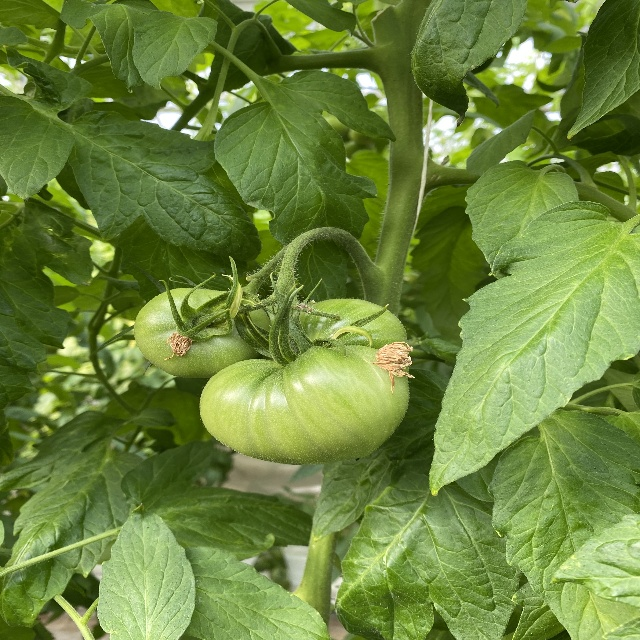b_green: (200, 297, 410, 465), (133, 287, 277, 379)
